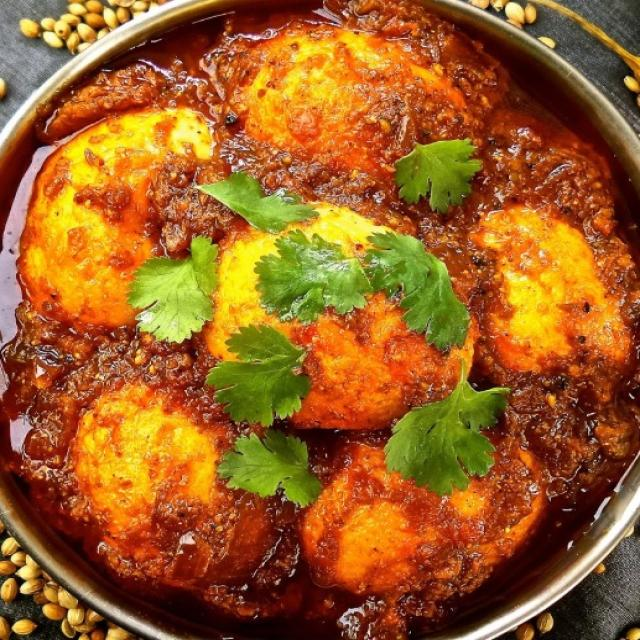EGG: (13, 21, 639, 594)
